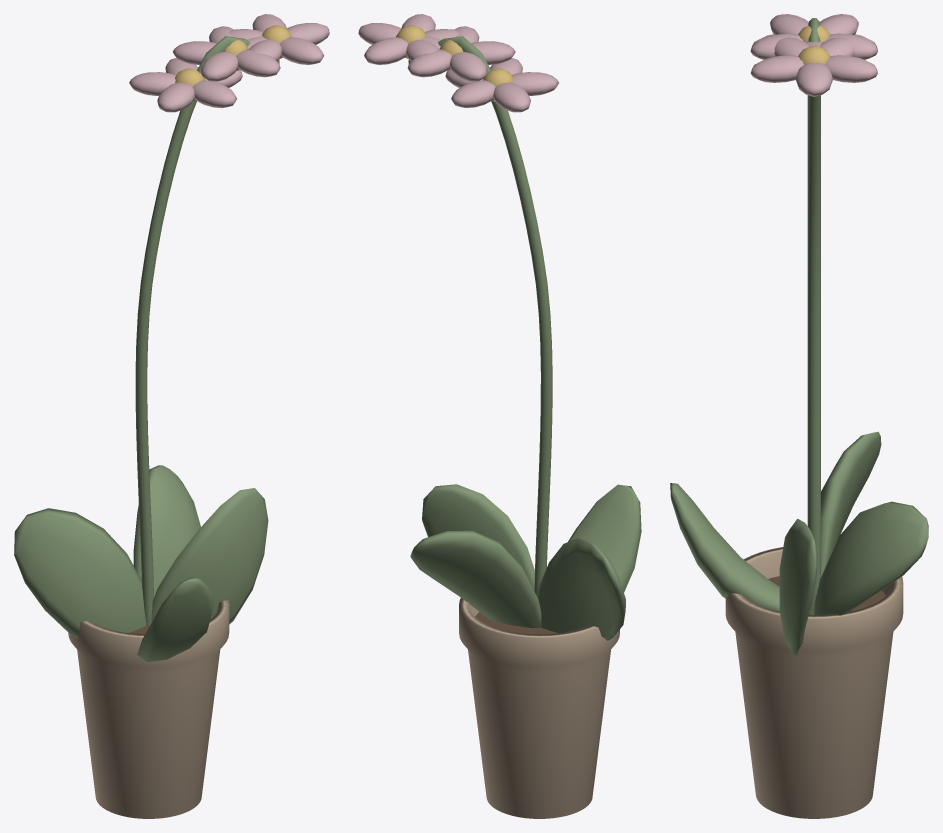
File: orchid.glb
3 views of the same model, side by side, from view 1: azimuth 30°, elevation 25°; view 2: azimuth 150°, elevation 25°; view 3: azimuth 270°, elevation 25° (orthographic). The views are drawn at different scales.
Parts seen in each view (by area): view 1: planter-hollow-vessel, basal-leaf-2, basal-leaf-0, arching-orchid-stem, basal-leaf-3, basal-leaf-1, orchid-2-petal-1, orchid-0-petal-1, orchid-1-petal-1, orchid-0-petal-2, orchid-1-petal-2, orchid-0-petal-3 (+2 smaller); view 2: planter-hollow-vessel, basal-leaf-3, basal-leaf-2, arching-orchid-stem, basal-leaf-0, basal-leaf-1, orchid-2-petal-4, orchid-0-petal-4, orchid-1-petal-4, orchid-0-petal-3, orchid-1-petal-3, orchid-0-petal-2 (+3 smaller); view 3: planter-hollow-vessel, basal-leaf-3, arching-orchid-stem, basal-leaf-1, basal-leaf-0, basal-leaf-2, orchid-2-petal-1, orchid-2-petal-4, orchid-2-petal-0, orchid-1-petal-1, orchid-1-petal-4, orchid-1-petal-2 (+3 smaller).
Part boxes in pixels (x1,y1,x2,y2): planter-hollow-vessel: (68, 600, 229, 818); basal-leaf-2: (14, 508, 146, 638); basal-leaf-0: (151, 488, 268, 624); arching-orchid-stem: (135, 36, 279, 626); basal-leaf-3: (133, 465, 200, 597); basal-leaf-1: (137, 577, 214, 662); orchid-2-petal-1: (280, 37, 324, 64); orchid-0-petal-1: (193, 80, 236, 108); orchid-1-petal-1: (236, 49, 280, 77); orchid-0-petal-2: (157, 82, 194, 112); orchid-1-petal-2: (201, 52, 238, 81); orchid-0-petal-3: (129, 72, 176, 95); planter-hollow-vessel: (459, 598, 619, 818); basal-leaf-3: (410, 530, 541, 627); basal-leaf-2: (537, 538, 625, 640); arching-orchid-stem: (408, 36, 552, 595); basal-leaf-0: (422, 484, 534, 590); basal-leaf-1: (568, 484, 641, 592); orchid-2-petal-4: (364, 37, 408, 64); orchid-0-petal-4: (451, 80, 495, 107); orchid-1-petal-4: (407, 49, 451, 77); orchid-0-petal-3: (493, 82, 530, 112); orchid-1-petal-3: (449, 52, 487, 81); orchid-0-petal-2: (512, 72, 558, 95); planter-hollow-vessel: (725, 547, 903, 818); basal-leaf-3: (814, 501, 928, 615); arching-orchid-stem: (807, 18, 820, 597); basal-leaf-1: (670, 483, 779, 611); basal-leaf-0: (779, 518, 817, 657); basal-leaf-2: (820, 431, 881, 577); orchid-2-petal-1: (750, 55, 803, 82); orchid-2-petal-4: (825, 55, 877, 82); orchid-2-petal-0: (795, 62, 832, 96); orchid-1-petal-1: (750, 33, 802, 59); orchid-1-petal-4: (825, 33, 877, 59); orchid-1-petal-2: (770, 15, 808, 34).
Bounding box in the file's own units: 0.3607 × 0.8839 × 0.2533.
